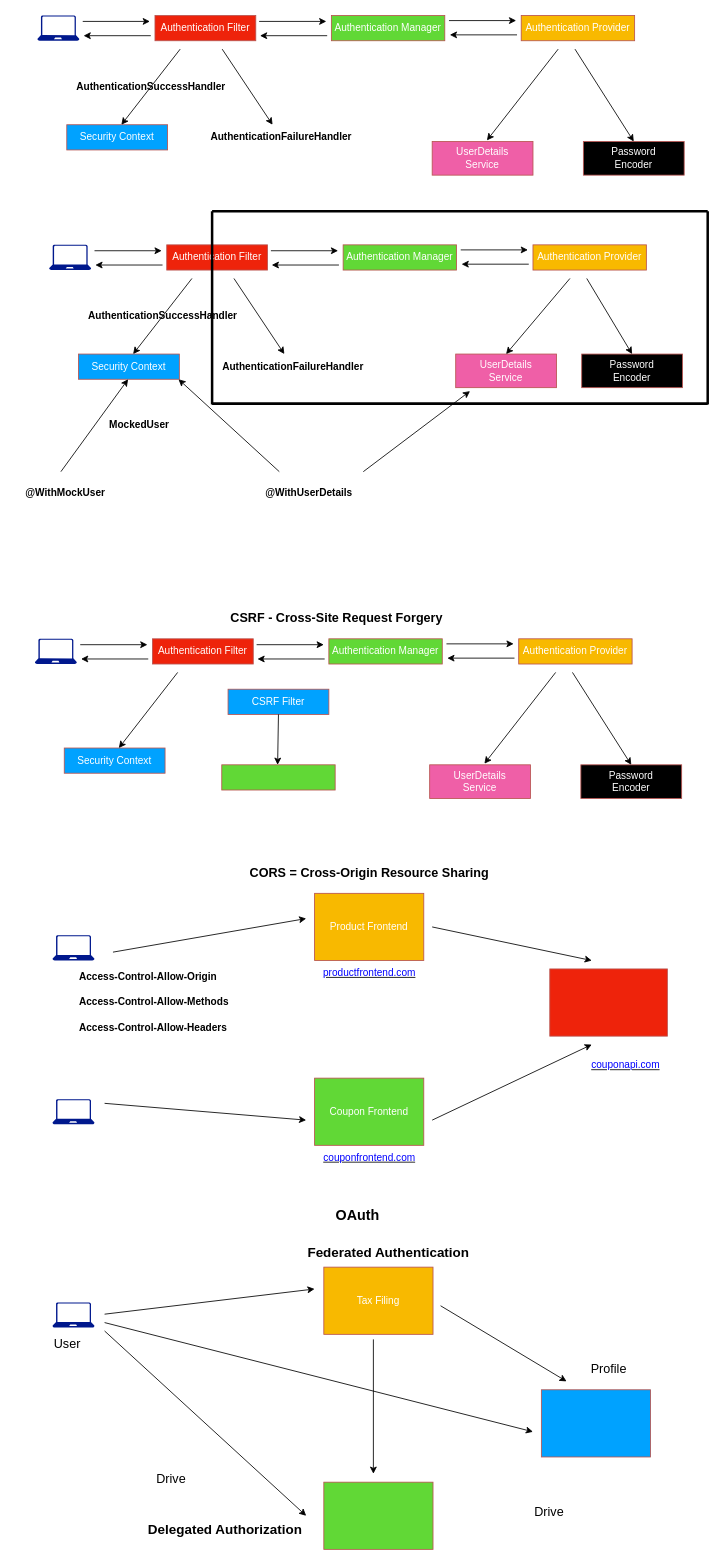
Some shapes in this 724 by 1564 pixel diagram are drawn without their labels. Here are the shapes that lost their labels. From the top down, the centre of each, then its label:
point (278, 777): CSRFTokenRepository
point (608, 1002): Coupon API
point (596, 1423): Facebook
point (378, 1515): Google
